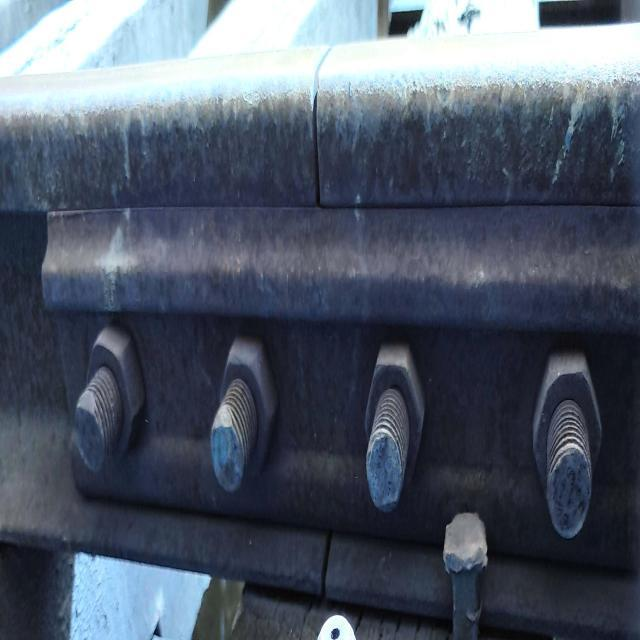Good Joint: (29, 209, 640, 570)
